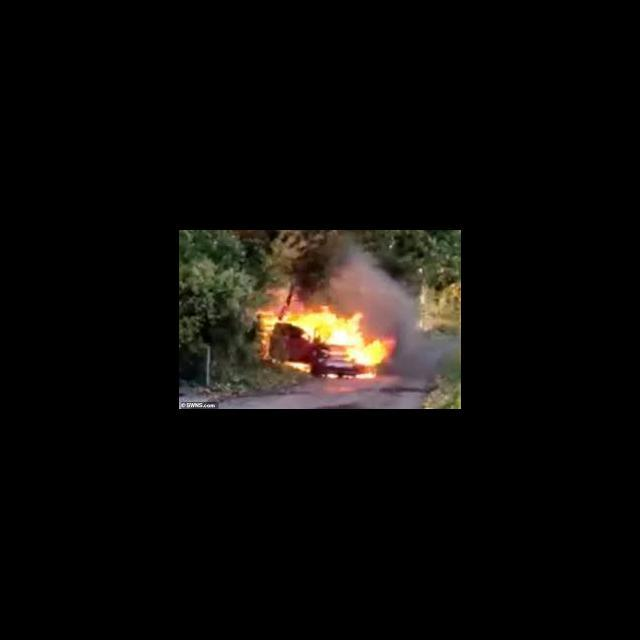Fire: (255, 306, 398, 384)
